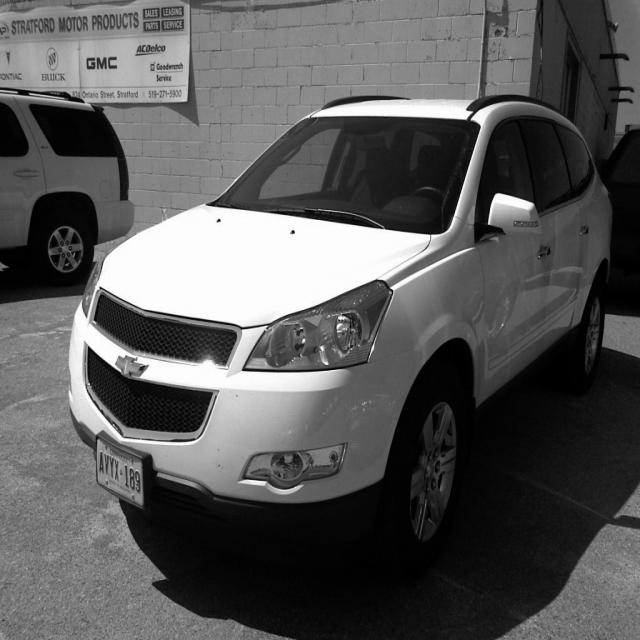car: (67, 92, 613, 580), (0, 86, 134, 286), (600, 127, 640, 288)
plat_license: (94, 433, 145, 508)
